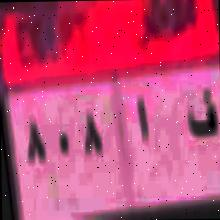0: (52, 122, 72, 170)
8: (78, 106, 104, 168), (24, 112, 46, 174)
alif: (134, 84, 152, 156)
faa: (183, 83, 220, 149)
